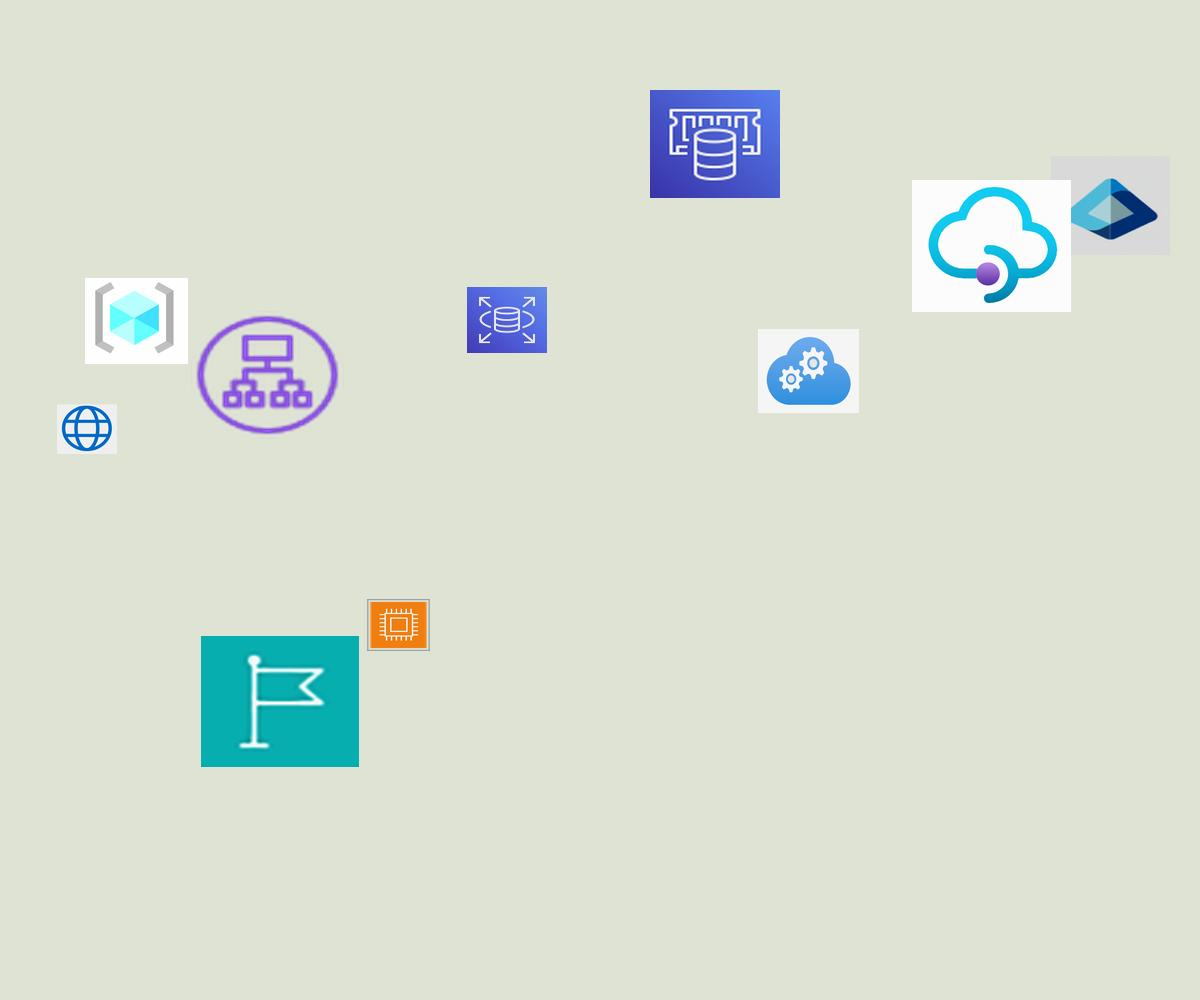AWS-Category_Compute: (367, 599, 430, 651)
AWS-ElastiCache: (650, 90, 780, 198)
AWS-RDS: (467, 287, 547, 353)
AWS-Region: (201, 636, 359, 767)
AWS-Res_Elastic-Load-Balancing_Application-Load-Balancer: (191, 311, 344, 439)
Azure_api_gateway: (912, 180, 1071, 312)
Azure_cloud_services: (758, 329, 859, 413)
Azure_http: (57, 404, 117, 454)
Azure_microsoft_entra: (1051, 156, 1170, 255)
Azure_resource_group: (85, 278, 188, 364)
